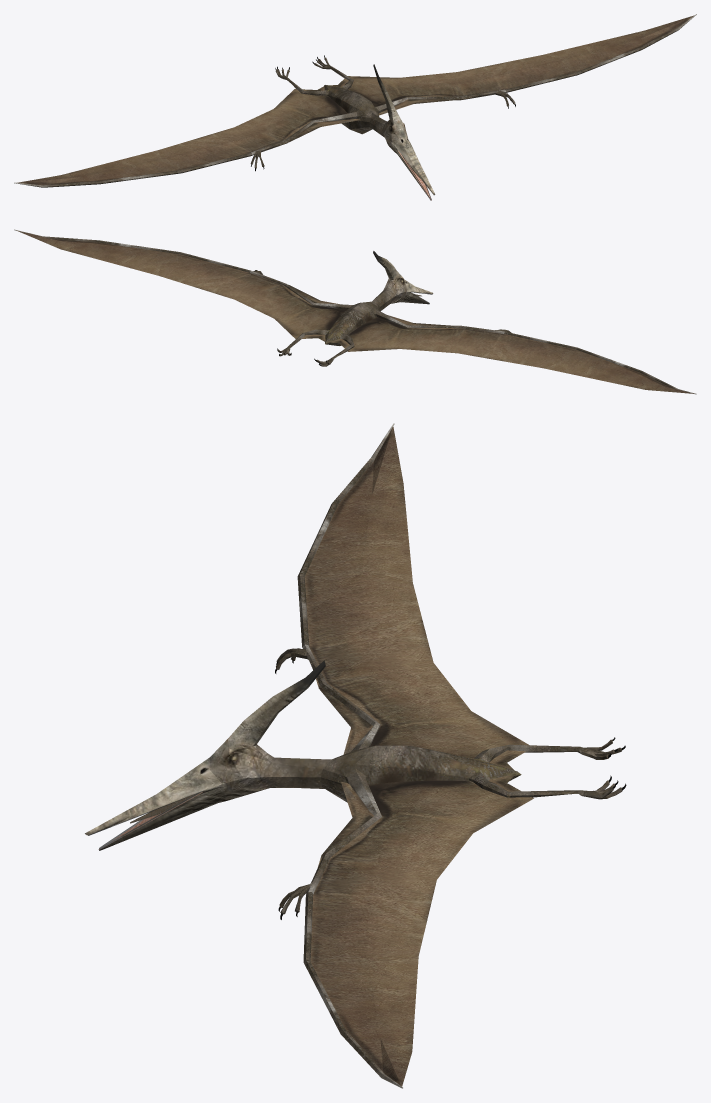
File: ptero.obj
3 renders of one model, top to bottom at view 1: azimuth 30°, elevation 25°; view 2: azimuth 150°, elevation 25°; view 3: azimuth 270°, elevation 25°, orthographic. The views are drawn at different scales.
Parts seen in each view (by area): view 1: ptero:corpo1corpo; view 2: ptero:corpo1corpo; view 3: ptero:corpo1corpo.
Part boxes in pixels (x1,y1,x2,y2): ptero:corpo1corpo: (14, 14, 696, 200); ptero:corpo1corpo: (14, 229, 696, 394); ptero:corpo1corpo: (85, 423, 626, 1088).
Size of the model in its own units: 9.28 by 1.24 by 3.2.
1 material, 1 textured.
